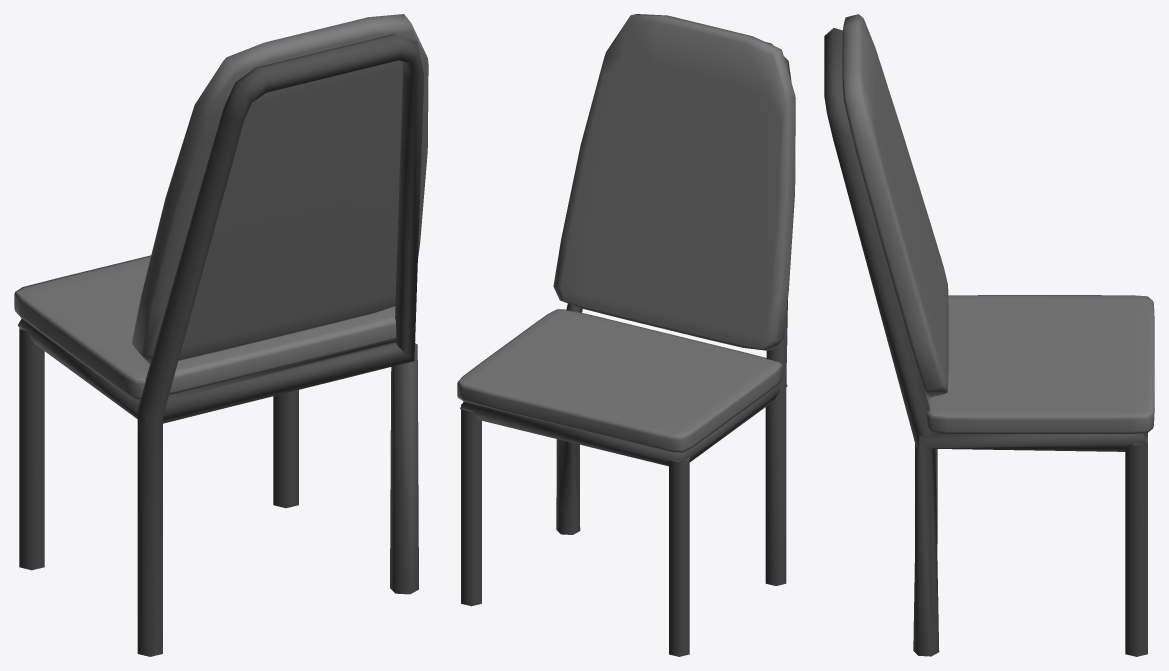
File: chair_4.glb
3 views of the same model, side by side, from view 1: azimuth 30°, elevation 25°; view 2: azimuth 150°, elevation 25°; view 3: azimuth 270°, elevation 25° (orthographic). The views are drawn at different scales.
Parts seen in each view (by area): view 1: Cube.034; view 2: Cube.034; view 3: Cube.034.
Boxes of the visible parts, left/top/right/bottom form: Cube.034: left=14, top=14, right=428, bottom=656; Cube.034: left=457, top=14, right=795, bottom=656; Cube.034: left=824, top=14, right=1154, bottom=656.
Bounding box in the file's own units: 0.696 × 1.46 × 0.7952.
2 materials, 2 textured.
